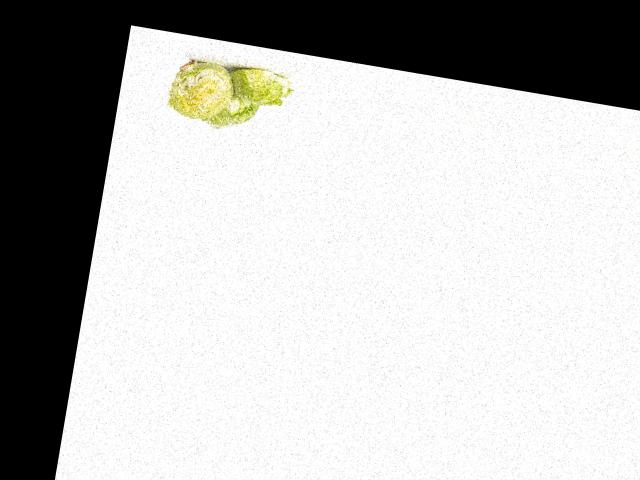lettuce: (194, 84, 266, 137)
